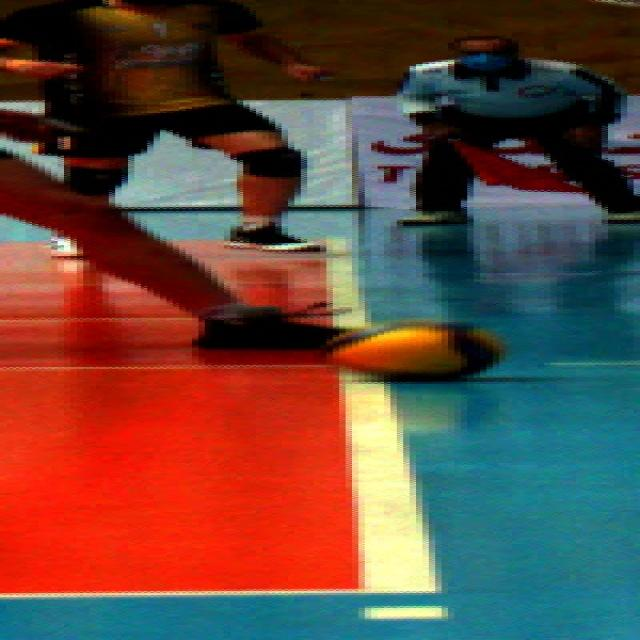Volleyball: (323, 321, 509, 377)
